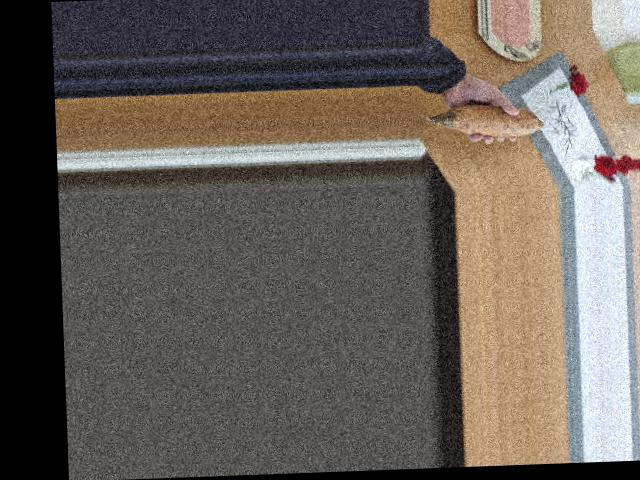sweet_potato: (435, 91, 546, 143)
